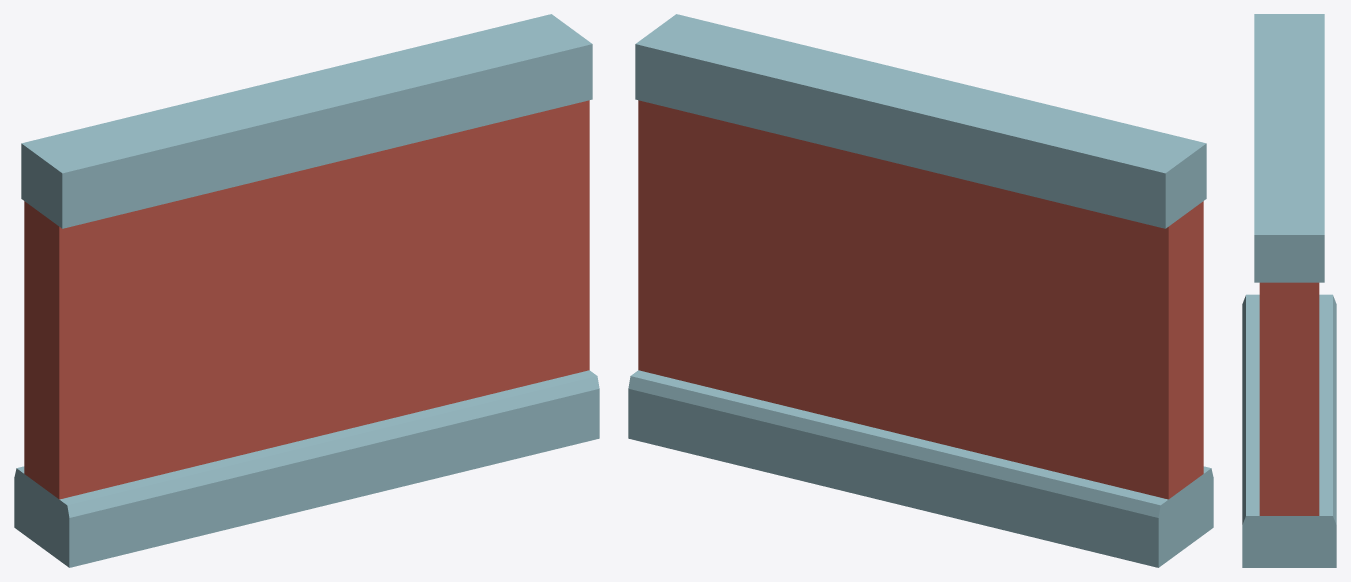
Rendered from brickWall.dae.
The picture shows the model from 3 angles, left to right: view 1: azimuth 30°, elevation 25°; view 2: azimuth 150°, elevation 25°; view 3: azimuth 270°, elevation 25°; orthographic projection. The views are drawn at different scales.
Visible parts, largest first — view 1: brickWall; view 2: brickWall; view 3: brickWall.
Boxes of the visible parts, bbox=[...] form: brickWall: bbox=[14, 14, 599, 567]; brickWall: bbox=[628, 14, 1213, 567]; brickWall: bbox=[1242, 14, 1336, 567].
Bounding box in the file's own units: 1 × 0.7019 × 0.18.
